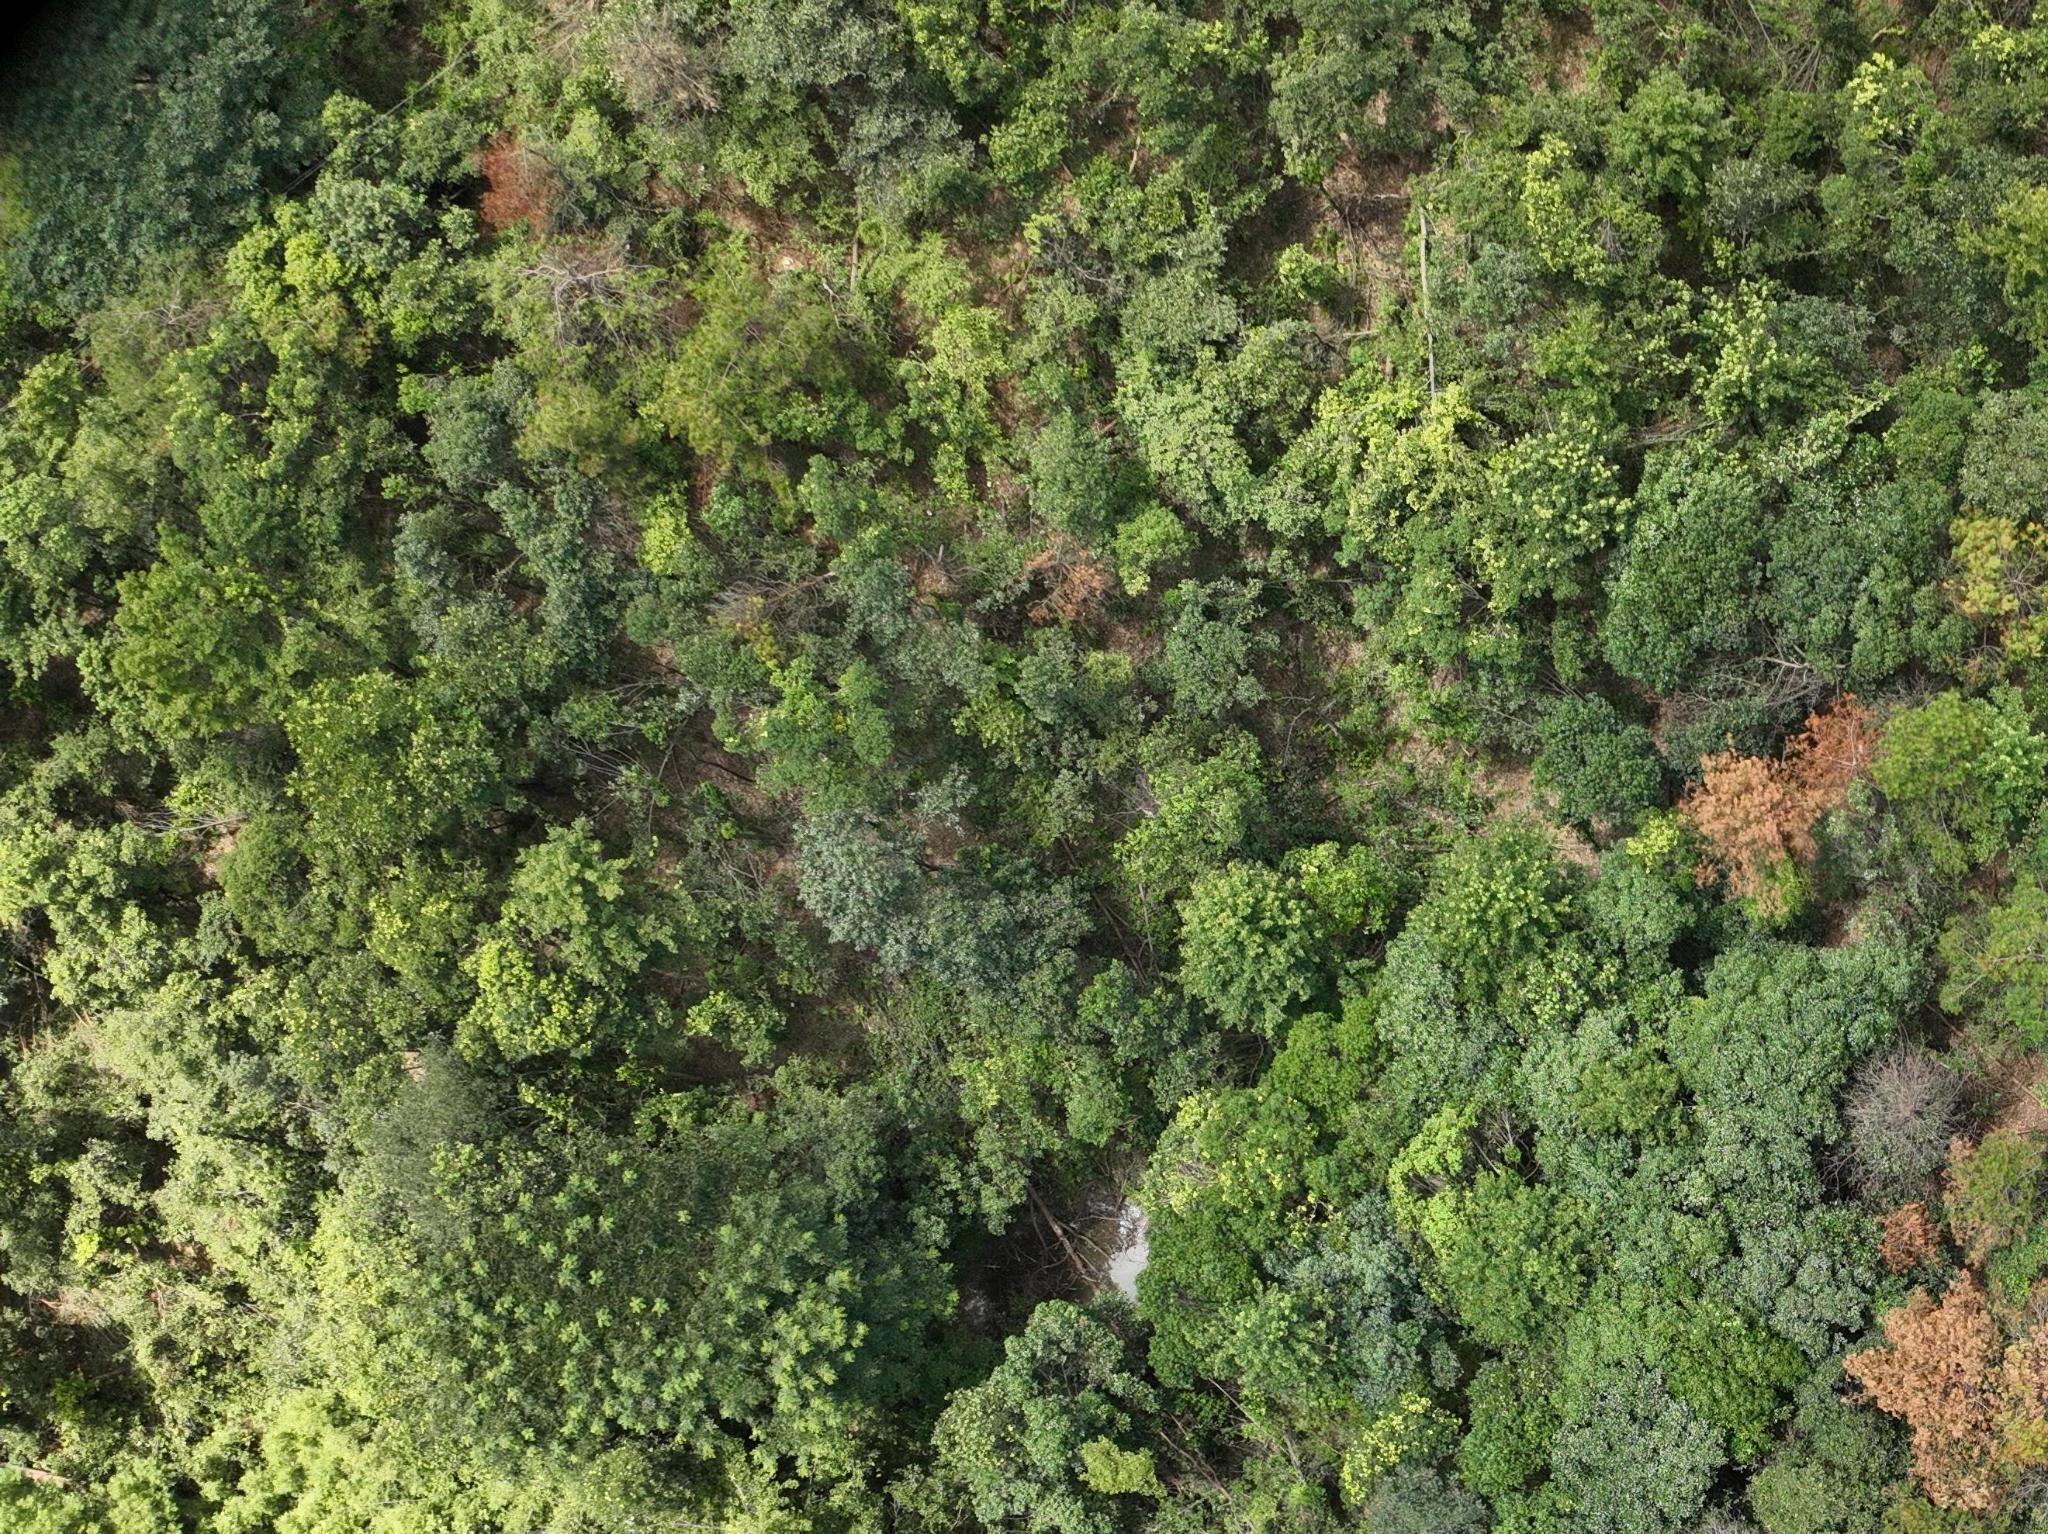dead: (1845, 1038, 1961, 1173)
heavy: (1842, 1200, 2042, 1511), (1663, 691, 1882, 880)
light: (1946, 506, 2043, 661)
